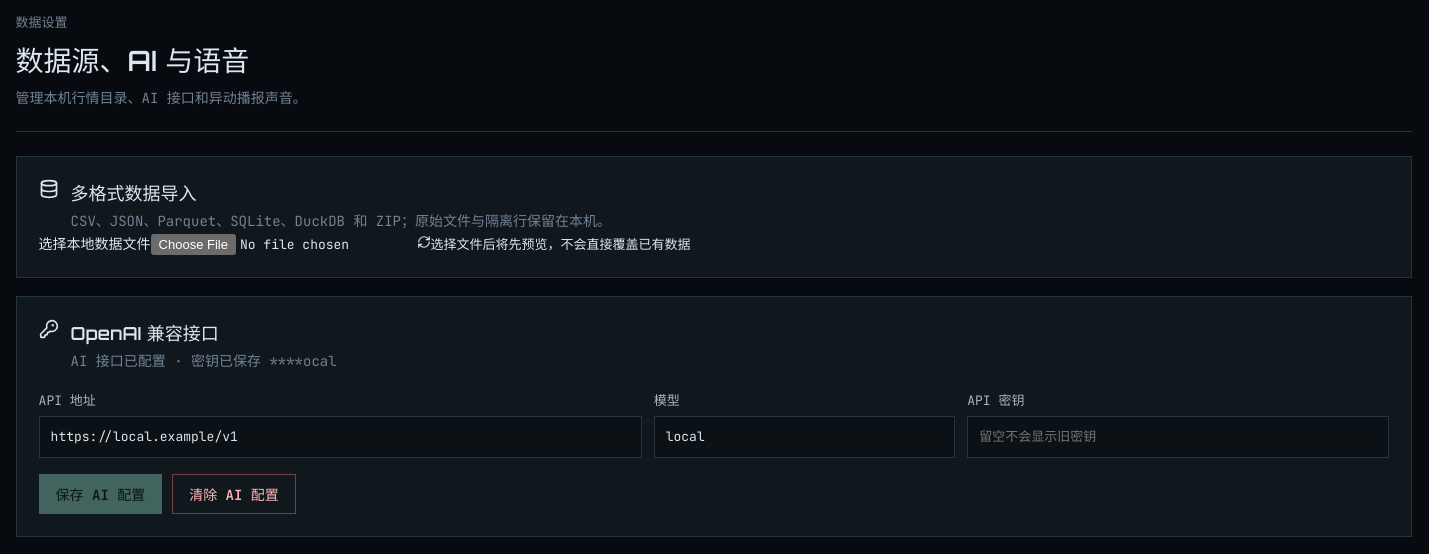
Test: DataSettingsView › uses the effective state returned after deleting local settings
Expected: the text "AI 接口已配置 · 密钥已保存 ****ocal" is shown, left=71, top=350, right=337, bottom=372
Click the button "清除 AI 配置".
click(234, 494)  # box left=172, top=474, right=296, bottom=514
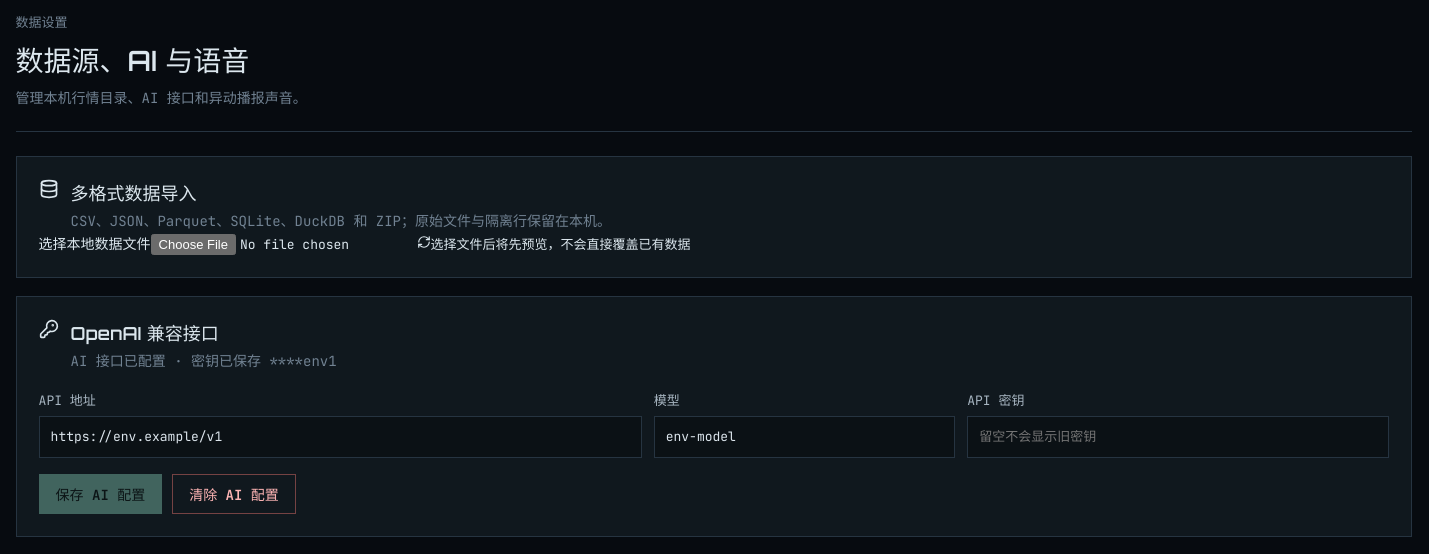
Result: the text "AI 接口已配置 · 密钥已保存 ****env1" is shown at left=71, top=350, right=337, bottom=372
Result: the field labelled "API 地址" holds "https://env.example/v1" at left=39, top=416, right=642, bottom=458
